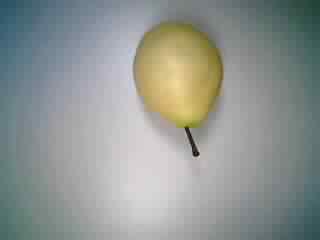pear: (122, 16, 234, 161)
